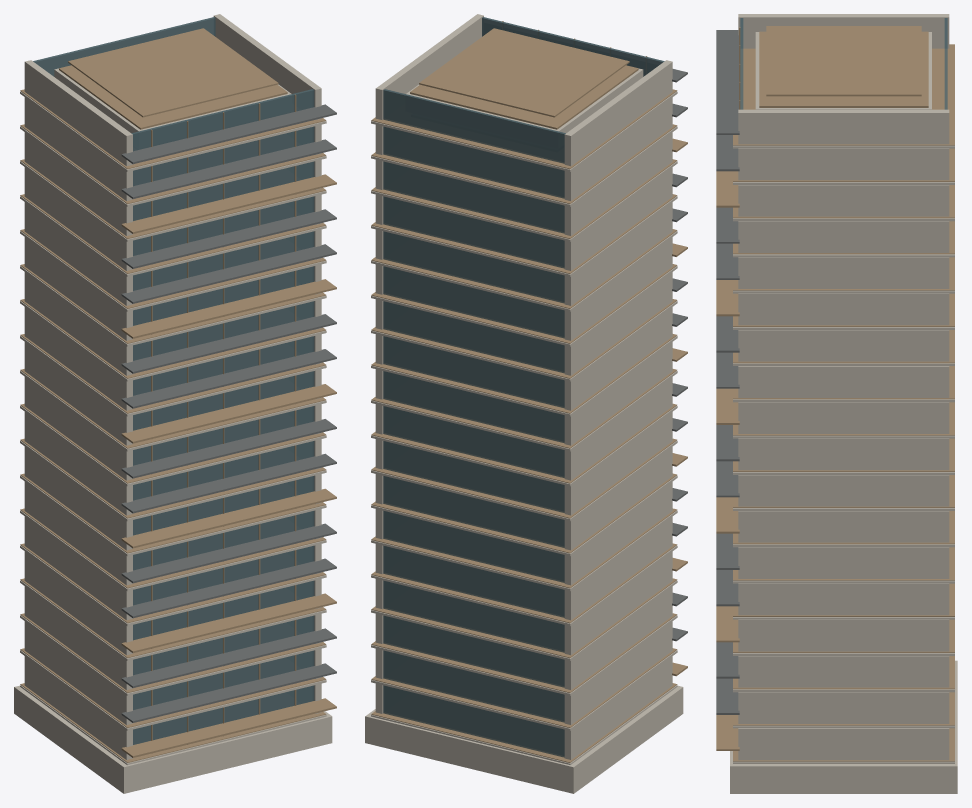
The model's file is tower.glb.
3 views of the same model, side by side, from view 1: azimuth 30°, elevation 25°; view 2: azimuth 150°, elevation 25°; view 3: azimuth 270°, elevation 25° (orthographic). The views are drawn at different scales.
Parts seen in each view (by area): view 1: tower; view 2: tower; view 3: tower.
Boxes of the visible parts, bbox=[...] form: tower: bbox=[14, 14, 336, 793]; tower: bbox=[365, 14, 687, 793]; tower: bbox=[716, 14, 957, 793].
Bounding box in the file's own units: 18 × 54.11 × 17.4.
